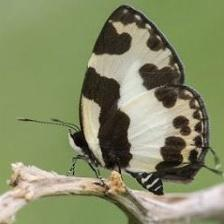butterfly: (70, 5, 210, 194)
